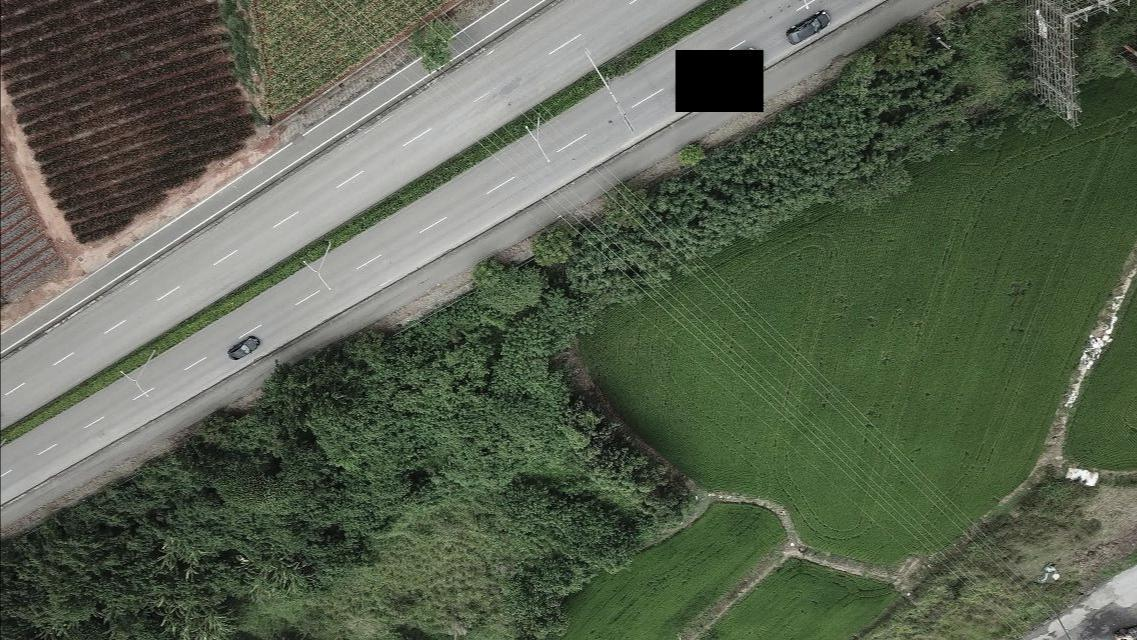vehicle: (785, 17, 832, 47), (227, 335, 259, 362)
